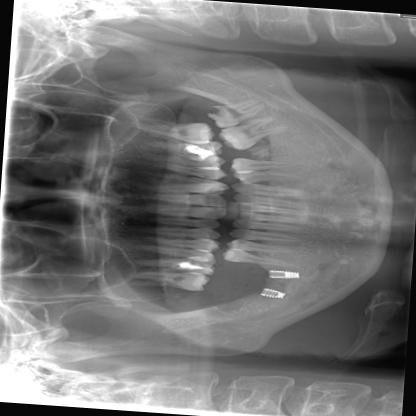Bicon: (249, 286, 292, 301)
